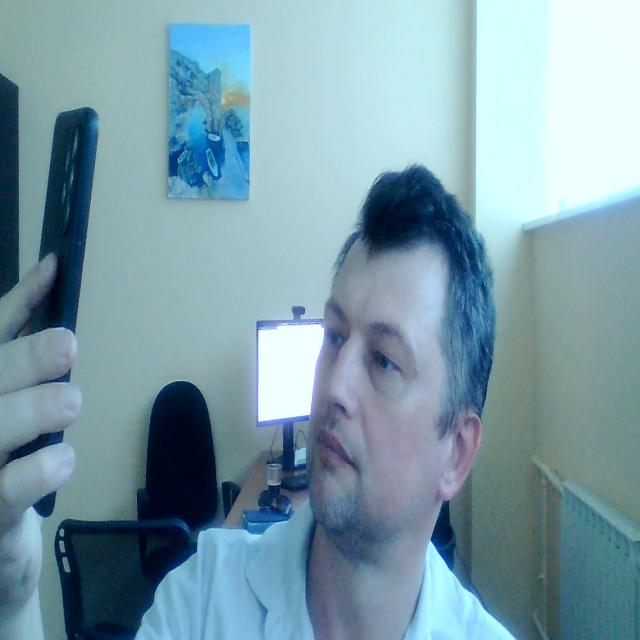phone: (15, 104, 99, 518)
